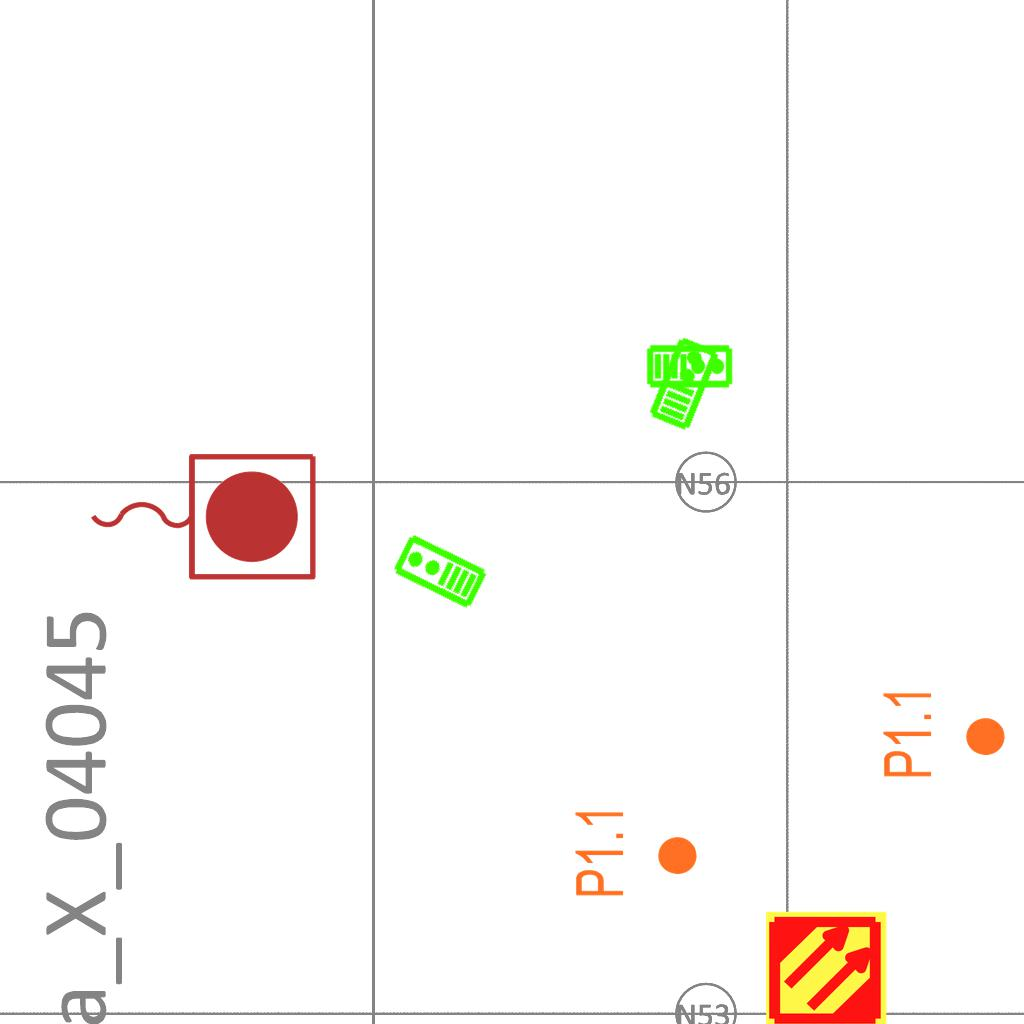ASR_Ansaugrauchmelder: (764, 908, 889, 1024)
Downlight_LED_Einbauleuchten_Flur: (572, 806, 700, 899), (880, 687, 1008, 780)
Gegensprechanlage_mit_Video: (389, 531, 490, 613), (645, 333, 722, 433), (646, 342, 734, 389)
Zugtaster: (80, 443, 324, 587)
